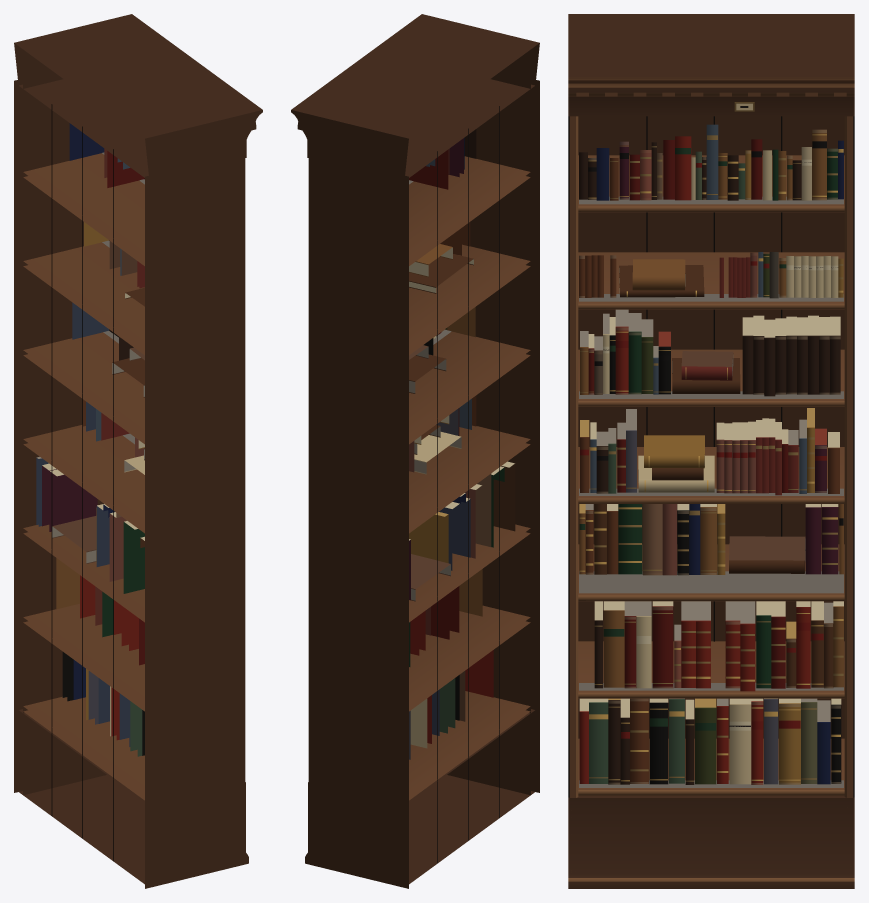
The model's file is bookcase_aisle_b.glb.
3 views of the same model, side by side, from view 1: azimuth 30°, elevation 25°; view 2: azimuth 150°, elevation 25°; view 3: azimuth 270°, elevation 25° (orthographic). The views are drawn at different scales.
Parts seen in each view (by area): view 1: regal; view 2: regal; view 3: regal.
Part boxes in pixels (<box>): regal: <box>14,14,262,888</box>; regal: <box>291,14,539,888</box>; regal: <box>568,14,854,888</box>.
Size of the model in its own units: 0.52 by 3.16 by 1.
